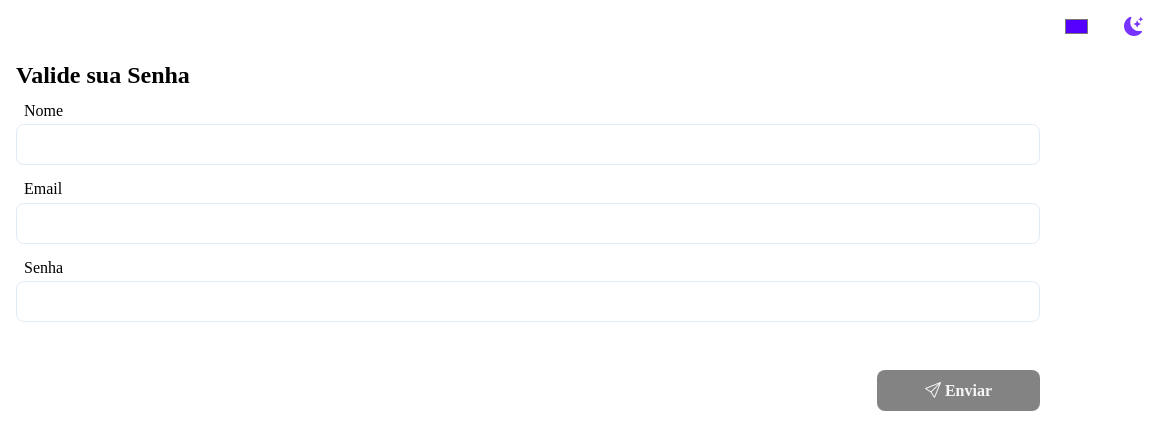
Scenario: Teste End to End › Pronto para enviar resultado: Sucesso no Preenchimento
The image size is (1160, 444).
Type "João" into the field with id "field-input-name".
click(528, 145); type("João")  # box [16, 124, 1040, 165]
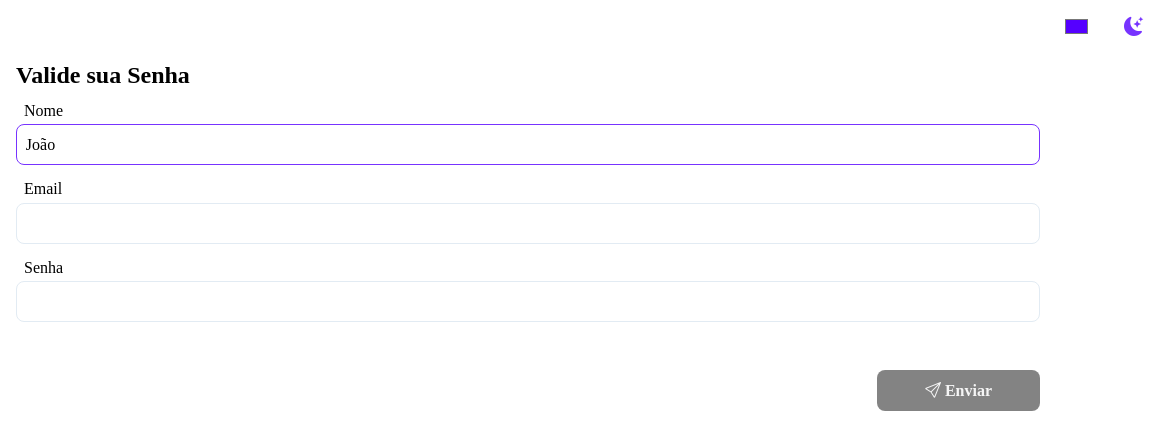
Type "joao@example.com.br" into the field with id "field-input-email".
click(528, 224); type("joao@example.com.br")  # box [16, 203, 1040, 244]
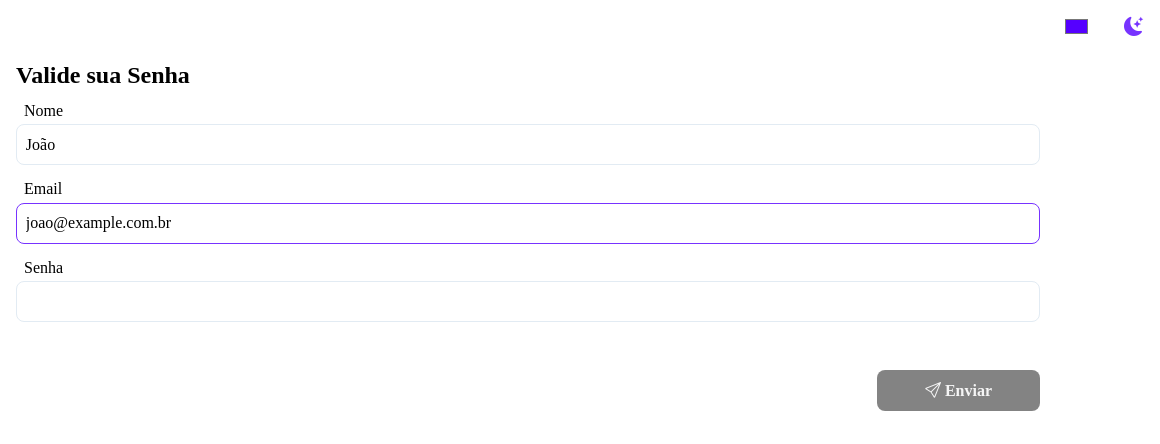
Type "222222" into the number field with id "field-input-password".
click(528, 302); type("222222")  # box [16, 281, 1040, 322]
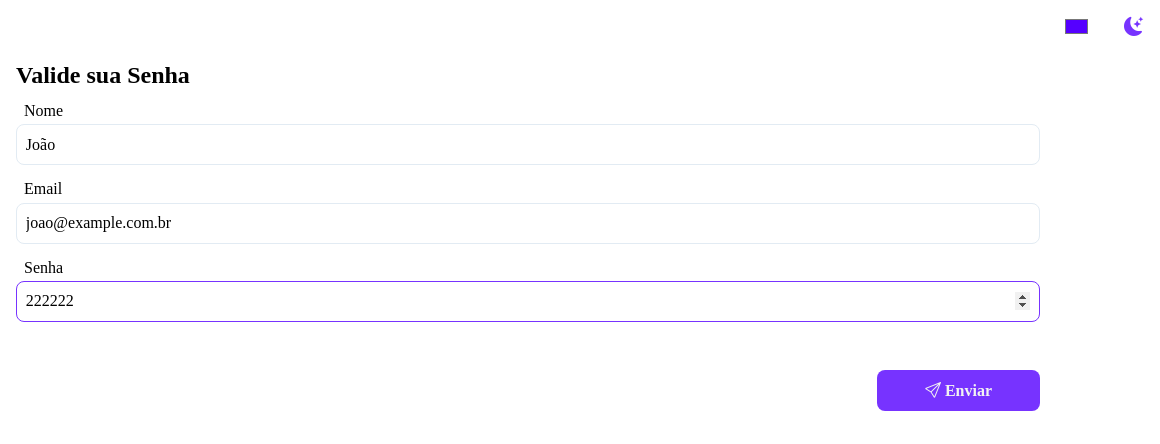
Press Tab
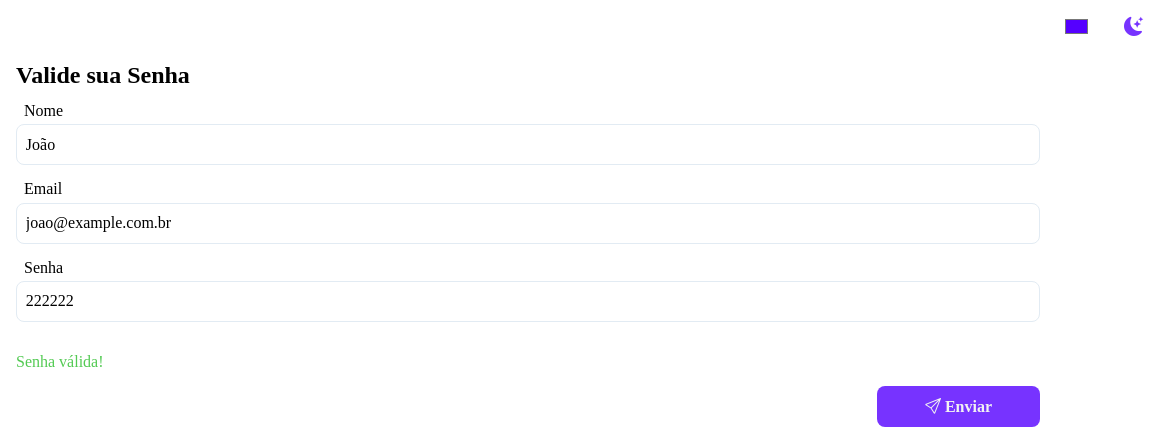
Result: the text "Senha válida!" is shown at [16, 353, 104, 370]
